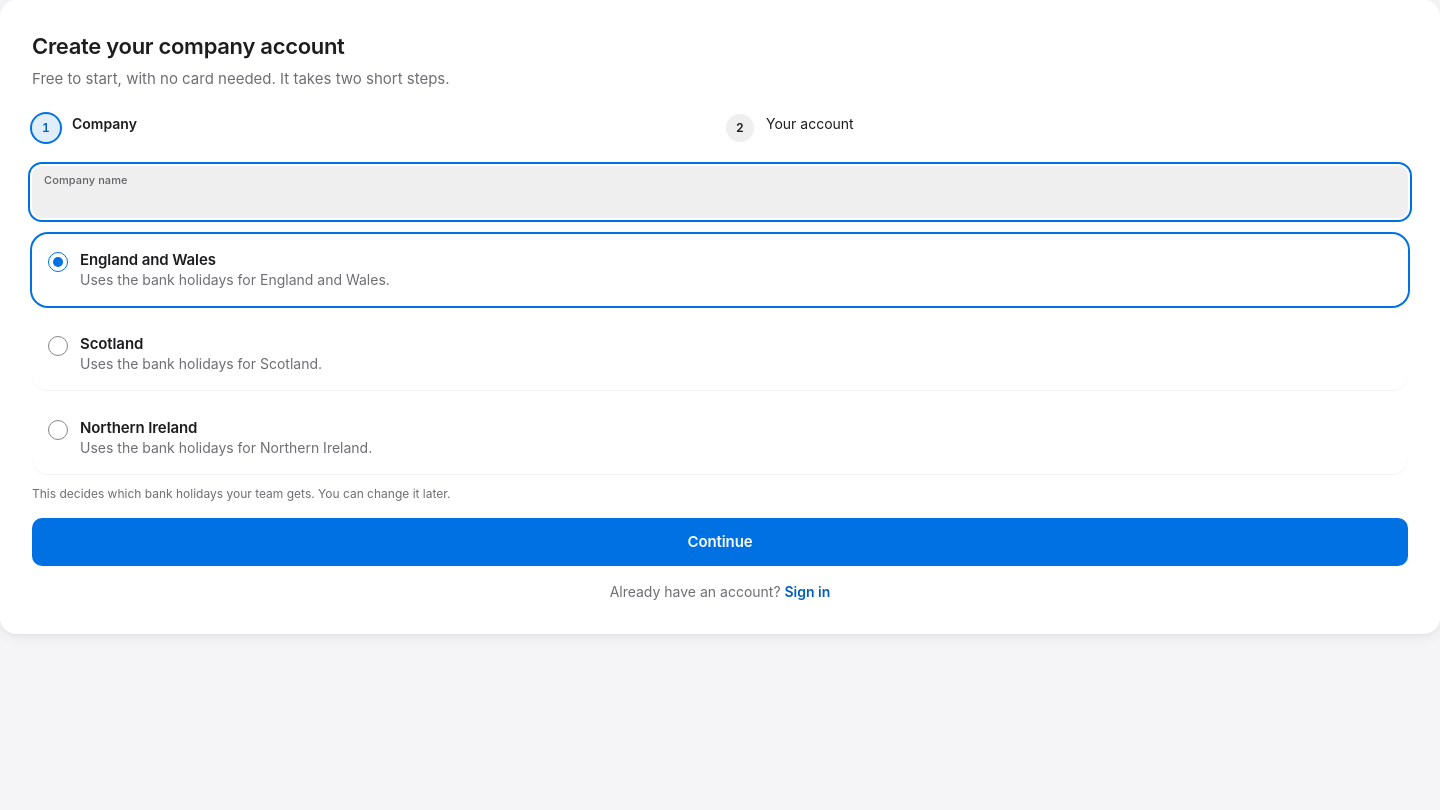
Test: SetupWizard › puts the API's complaint about the password on the password field
Type "Harbourside Care Ltd" into the field labelled "Company name".
click(694, 192); type("Harbourside Care Ltd")  # box [44, 166, 1344, 218]
Click the button "Continue".
click(720, 542)  # box [32, 518, 1408, 566]
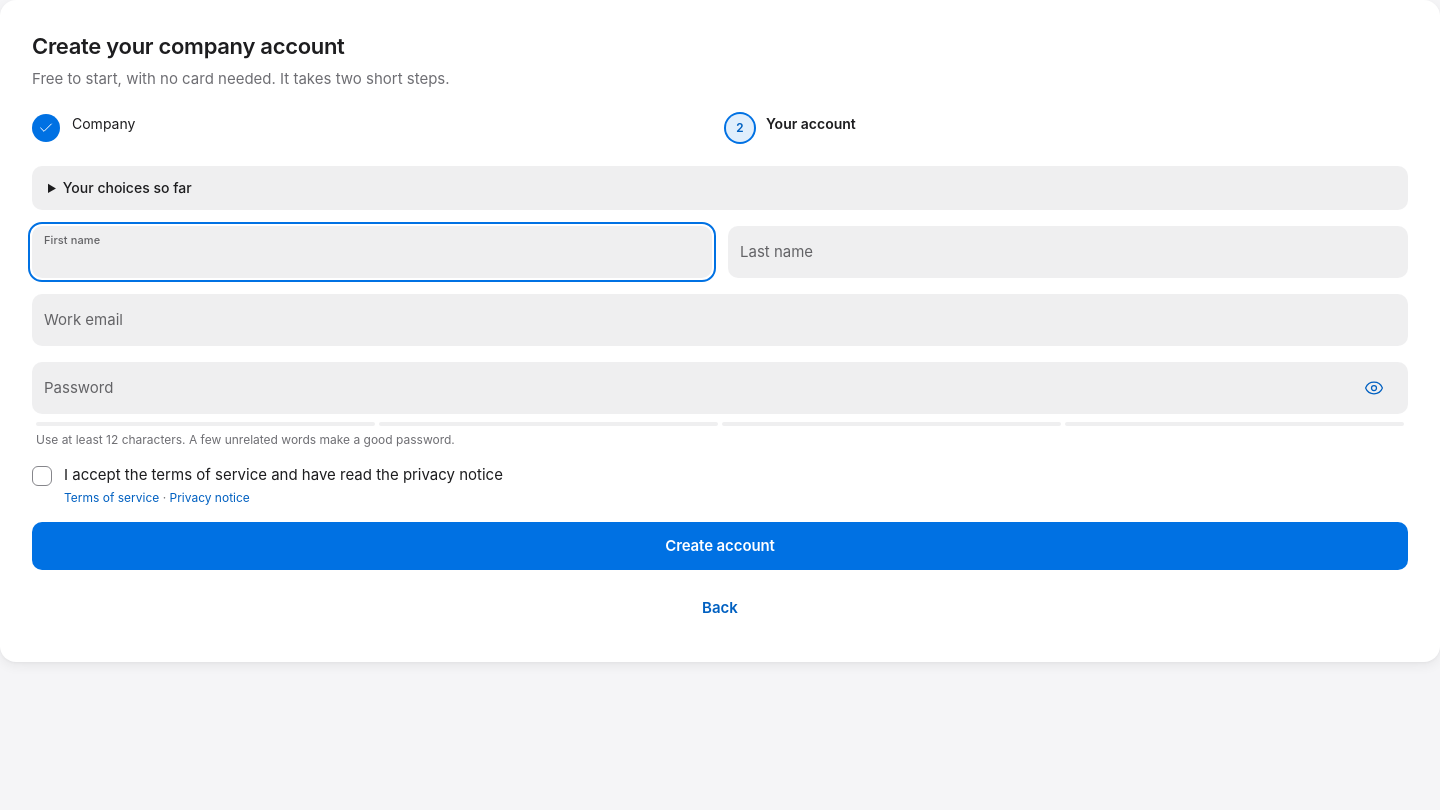
Type "Amira" into the field labelled "First name".
click(346, 252); type("Amira")  # box [44, 226, 648, 278]
Type "Hassan" into the field labelled "Last name".
click(1042, 252); type("Hassan")  # box [740, 226, 1344, 278]
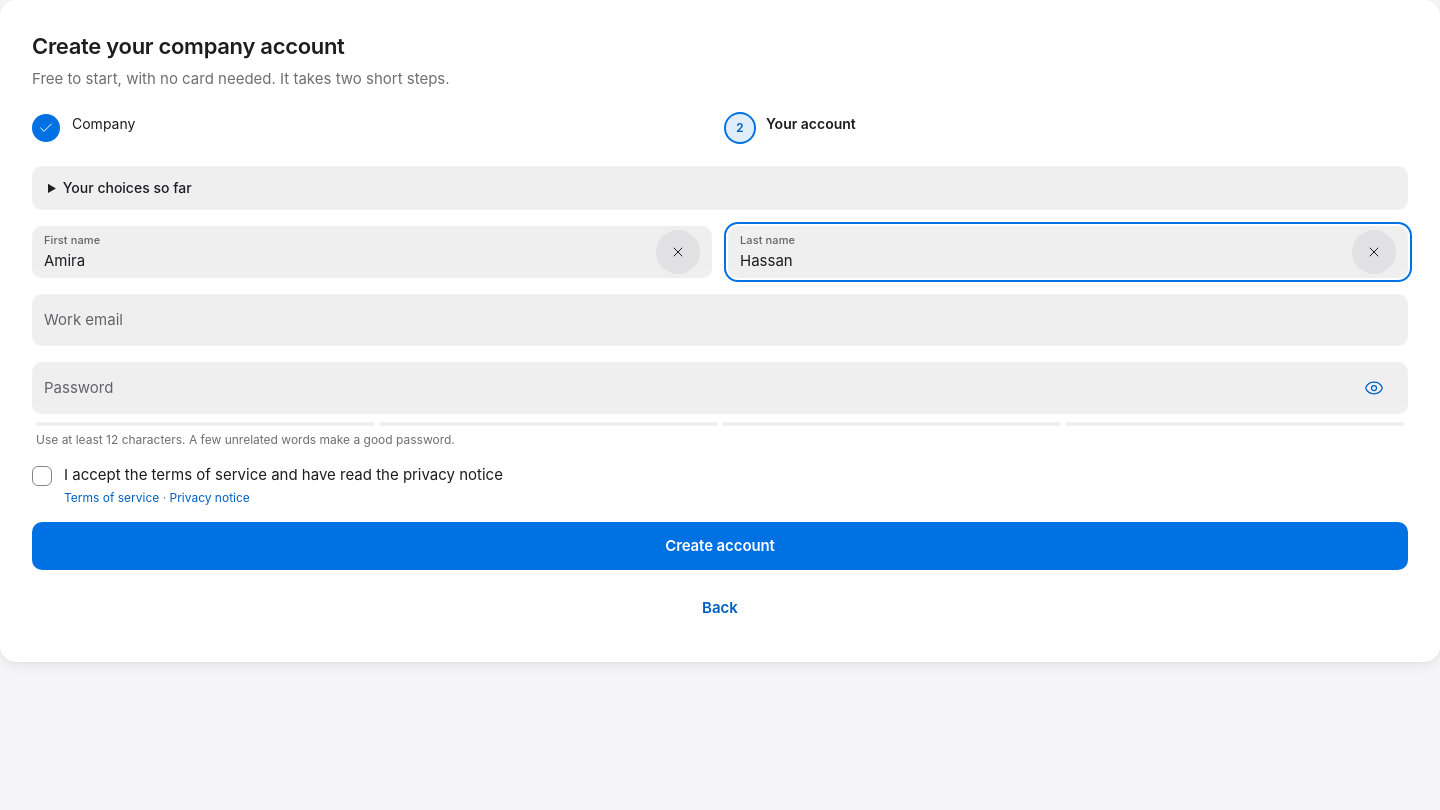
Type "amira@example.com" into the field labelled "Work email".
click(694, 320); type("amira@example.com")  # box [44, 294, 1344, 346]
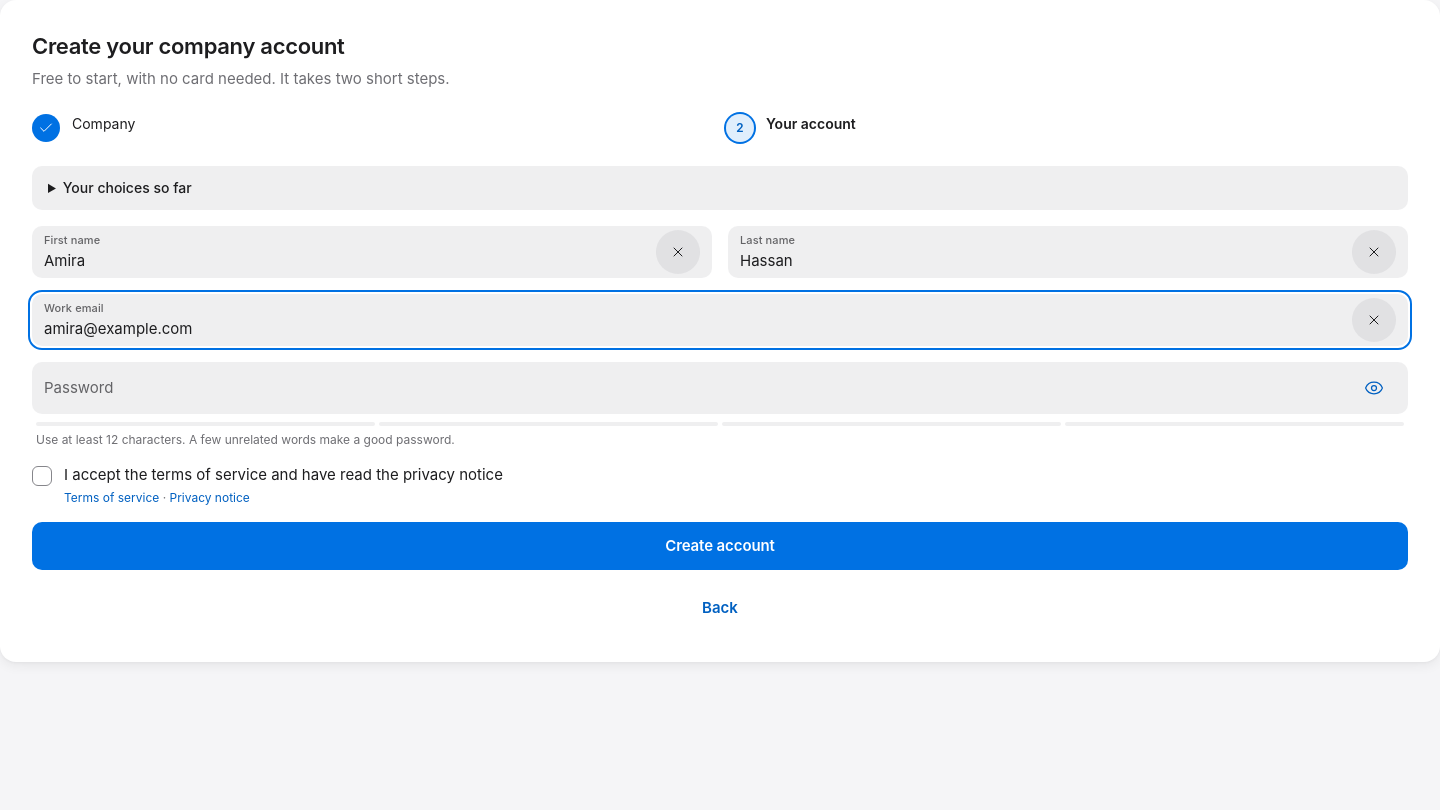
Type "a long enough password" into the password field labelled "Password".
click(694, 388); type("a long enough password")  # box [44, 362, 1344, 414]
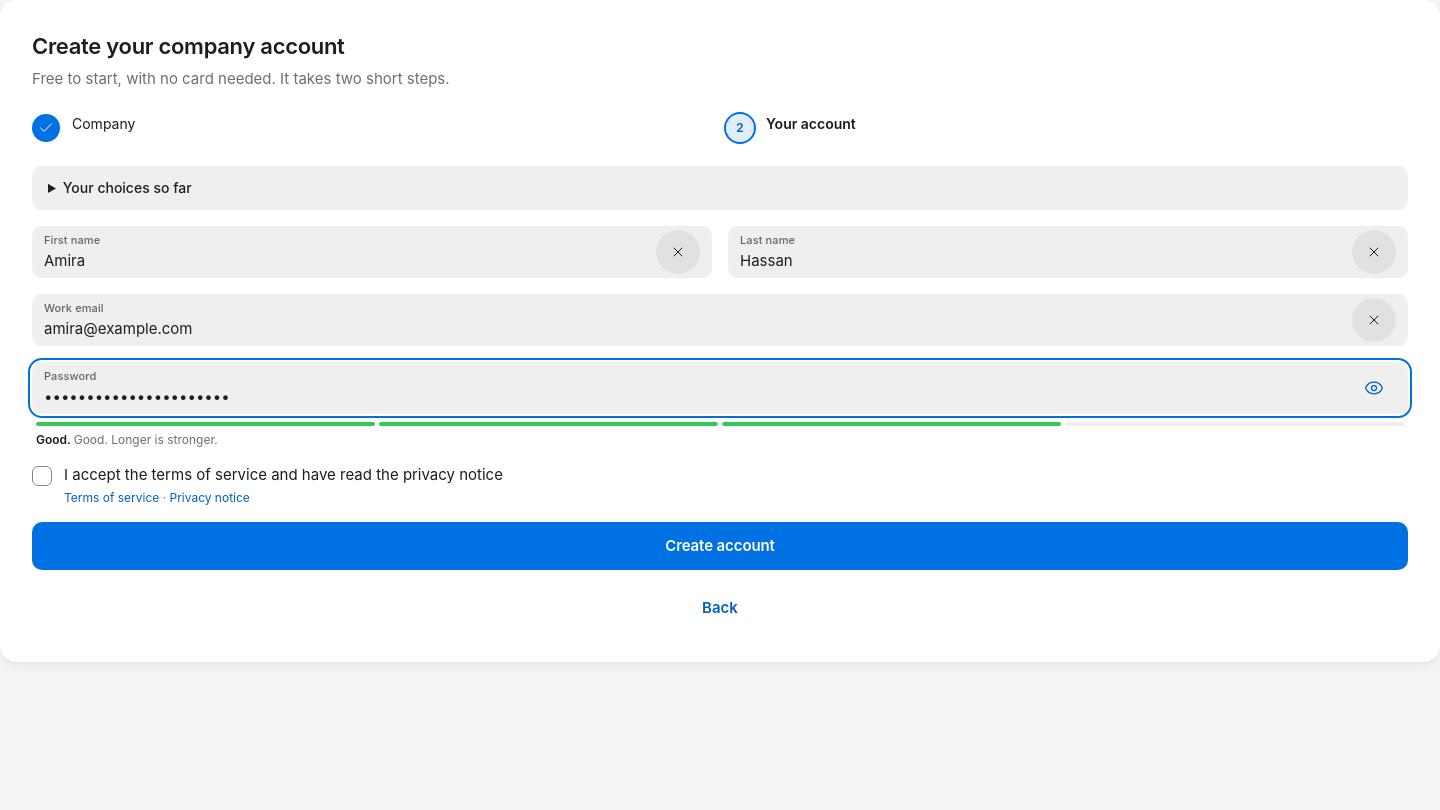
Click the checkbox.
click(42, 476)  # box [32, 466, 52, 486]
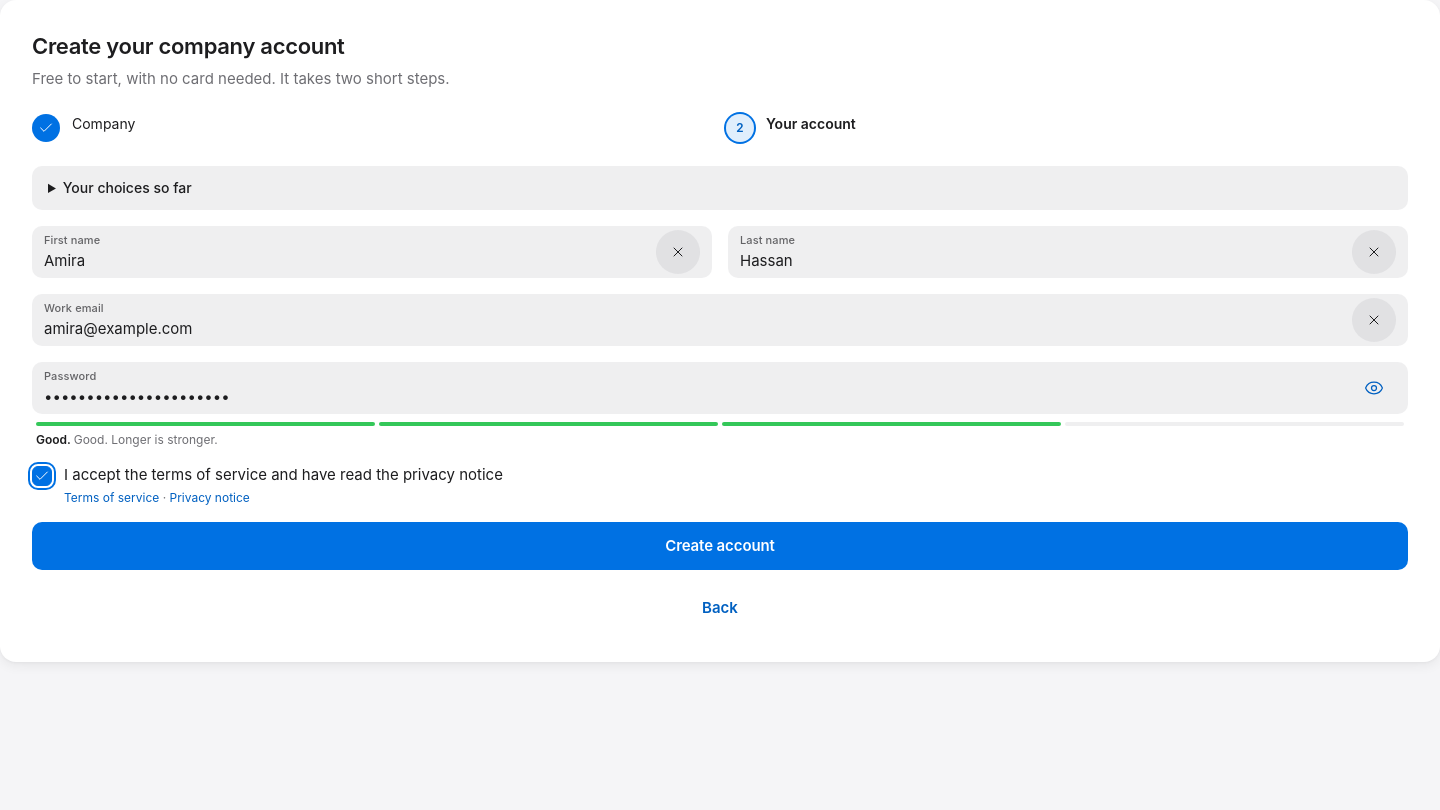
Click the button "Create account".
click(720, 546)  # box [32, 522, 1408, 570]
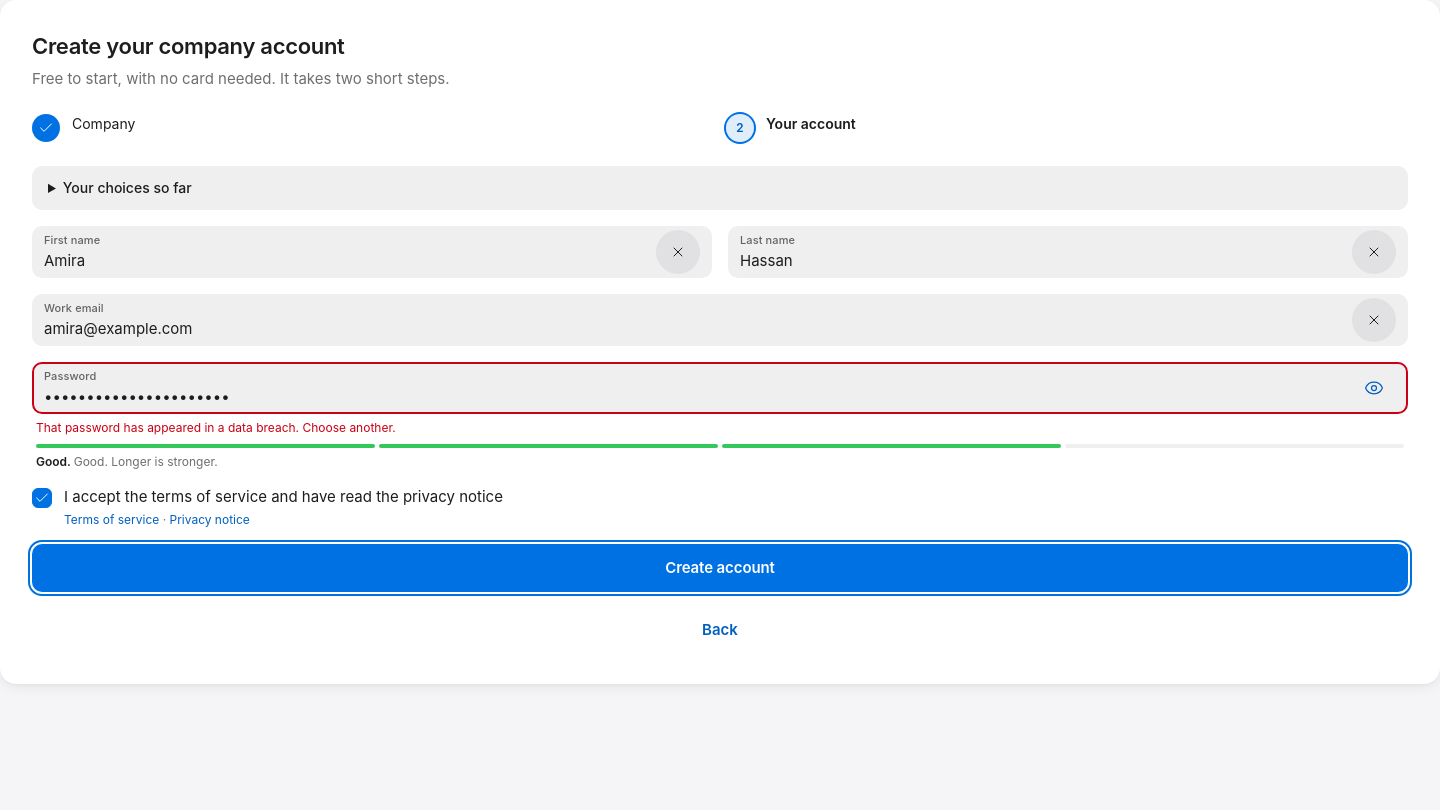
Expected: the text "That password has appeared in a data breach. Choose another." is shown, [36, 420, 396, 435]
